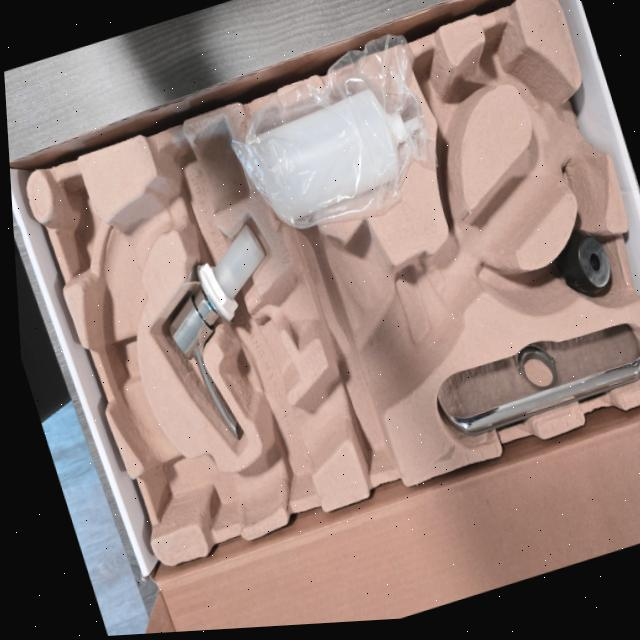1m: (87, 85, 596, 526)
2: (163, 225, 266, 439)
3: (248, 85, 426, 225)
4: (436, 324, 640, 436)
5: (559, 227, 612, 294)
6m: (476, 23, 556, 113)
7m: (410, 41, 481, 175)
